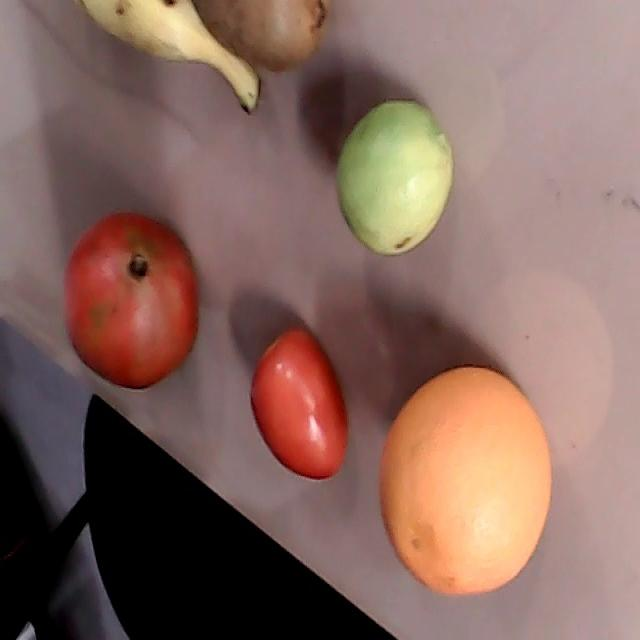kiwi: (192, 0, 331, 67)
lemon: (335, 100, 453, 256)
orange: (376, 366, 553, 596)
pomegranate: (63, 210, 200, 388)
tomato: (249, 326, 350, 483)
